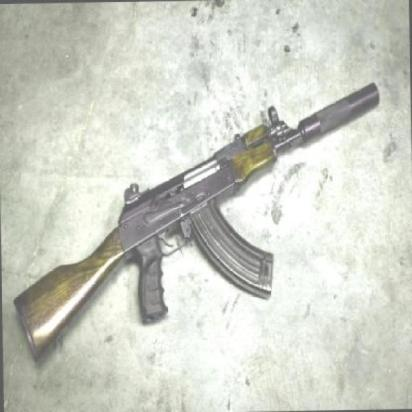Gun: (9, 49, 382, 364)
